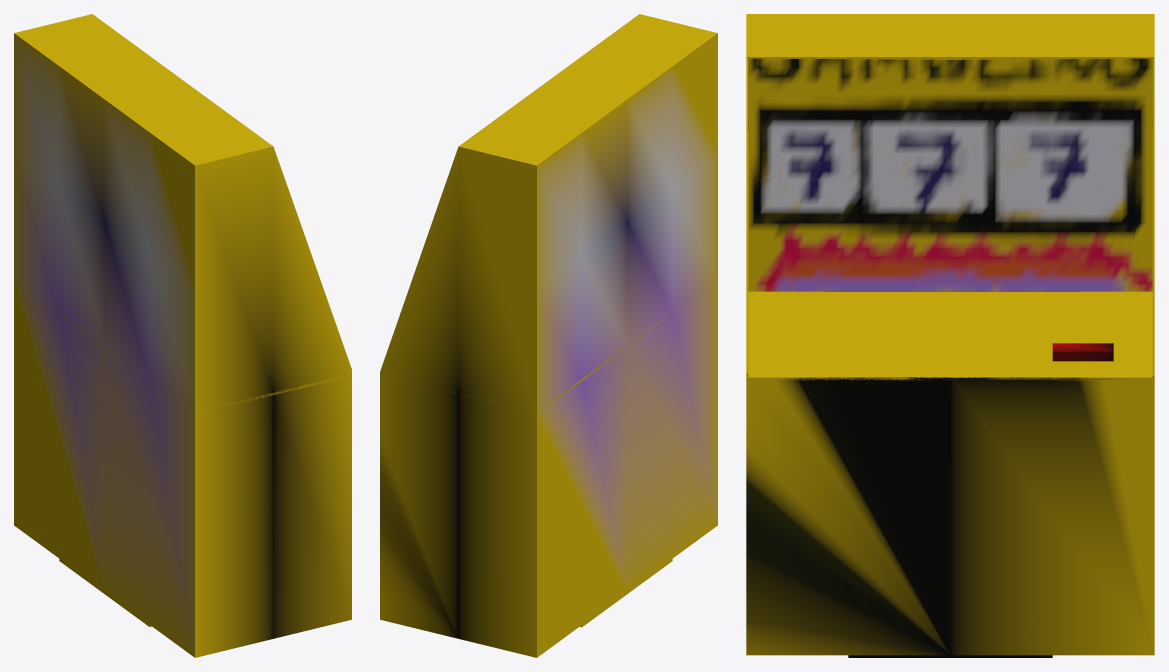
File: slot.fbx
The picture shows the model from 3 angles, left to right: view 1: azimuth 30°, elevation 25°; view 2: azimuth 150°, elevation 25°; view 3: azimuth 270°, elevation 25°; orthographic projection. The views are drawn at different scales.
Visible parts, largest first — view 1: Plane; view 2: Plane; view 3: Plane.
Part boxes in pixels (x1,y1,x2,y2): Plane: (14, 14, 351, 657); Plane: (380, 14, 717, 657); Plane: (746, 14, 1154, 657).
Bounding box in the file's own units: 200 × 603 × 400.
